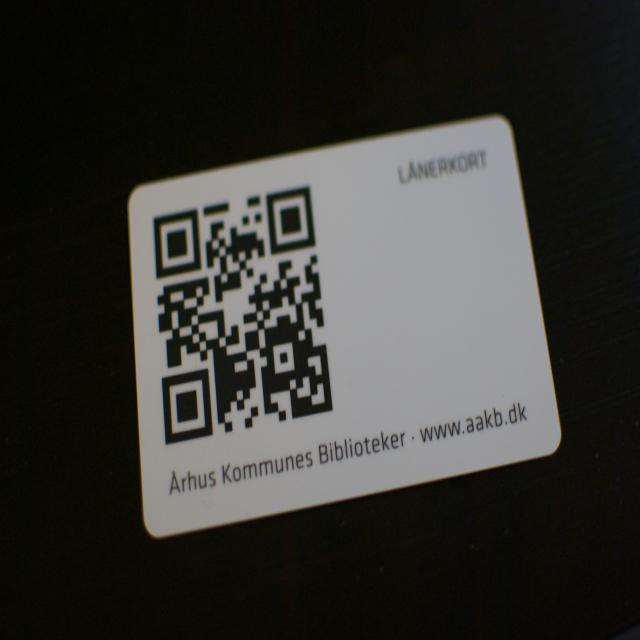qrcode: (155, 187, 334, 445)
